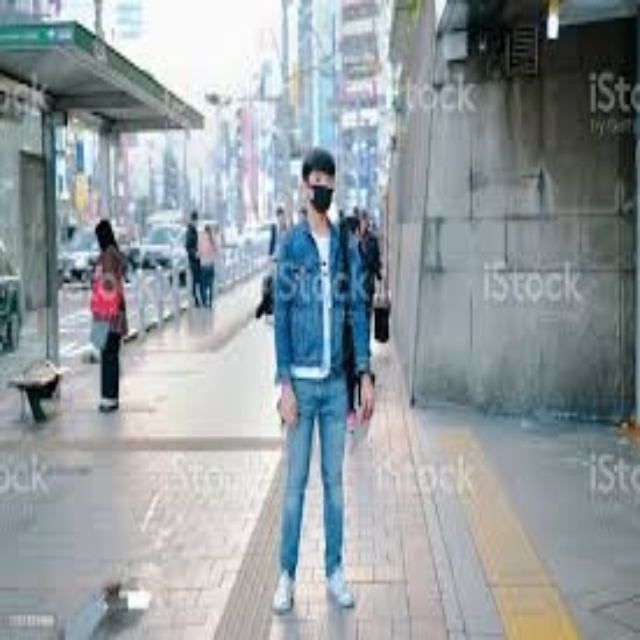Walking: (268, 153, 362, 614), (80, 221, 129, 421)
